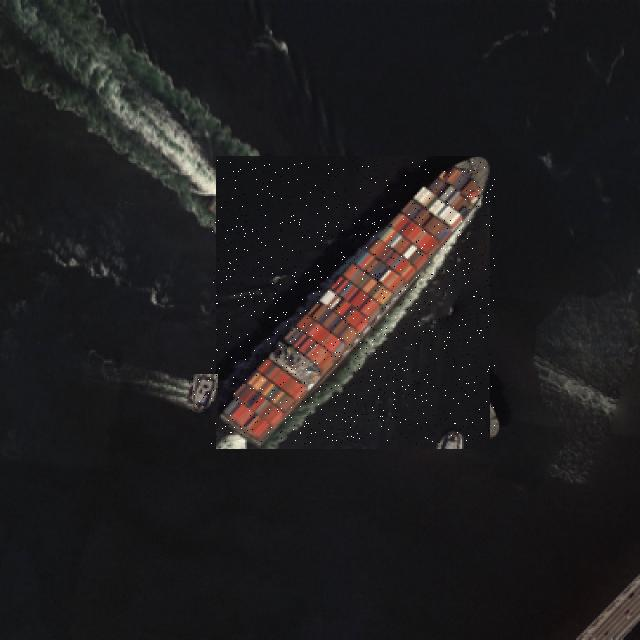boat: (211, 160, 495, 444), (189, 378, 222, 411)
